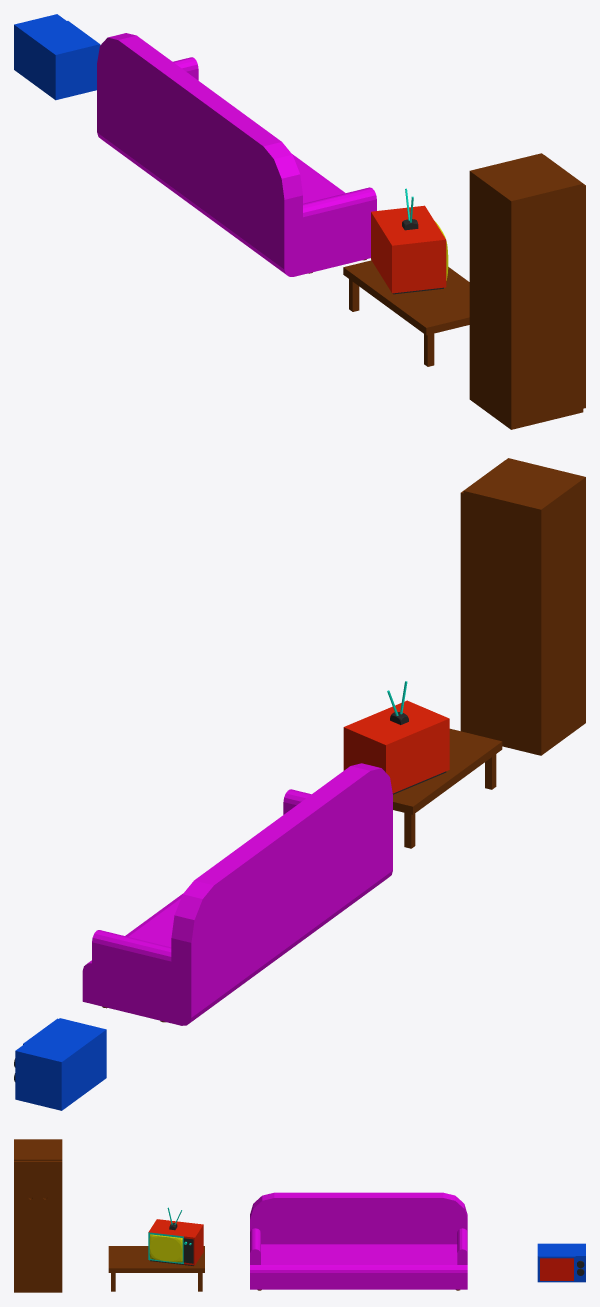
The model's file is Furniture.fbx.
3 views of the same model, one above another, from view 1: azimuth 30°, elevation 25°; view 2: azimuth 150°, elevation 25°; view 3: azimuth 270°, elevation 25° (orthographic). The views are drawn at different scales.
Parts seen in each view (by area): view 1: Sofa, Wardrobe, TV, Microwave, Table, Wardrobe_Door; view 2: Sofa, Wardrobe, TV, Microwave, Table, Wardrobe_Door; view 3: Sofa, Wardrobe_Door, TV, Table, Wardrobe, MicrowaveDoor, Microwave.
Part boxes in pixels (x1,y1,x2,y2): Sofa: [97, 33, 376, 276]; Wardrobe: [469, 153, 583, 429]; TV: [371, 188, 448, 294]; Microwave: [14, 14, 98, 100]; Table: [343, 260, 469, 366]; Wardrobe_Door: [544, 155, 585, 408]; Sofa: [82, 763, 392, 1025]; Wardrobe: [463, 458, 585, 755]; TV: [343, 681, 449, 794]; Microwave: [14, 1018, 106, 1110]; Table: [393, 728, 502, 848]; Wardrobe_Door: [460, 460, 504, 731]; Sofa: [250, 1192, 467, 1290]; Wardrobe_Door: [14, 1161, 62, 1291]; TV: [148, 1207, 203, 1265]; Table: [108, 1246, 204, 1291]; Wardrobe: [14, 1139, 62, 1292]; MicrowaveDoor: [538, 1256, 575, 1282]; Microwave: [537, 1243, 585, 1282].
Bounding box in the file's own units: 280 × 606 × 2365.
